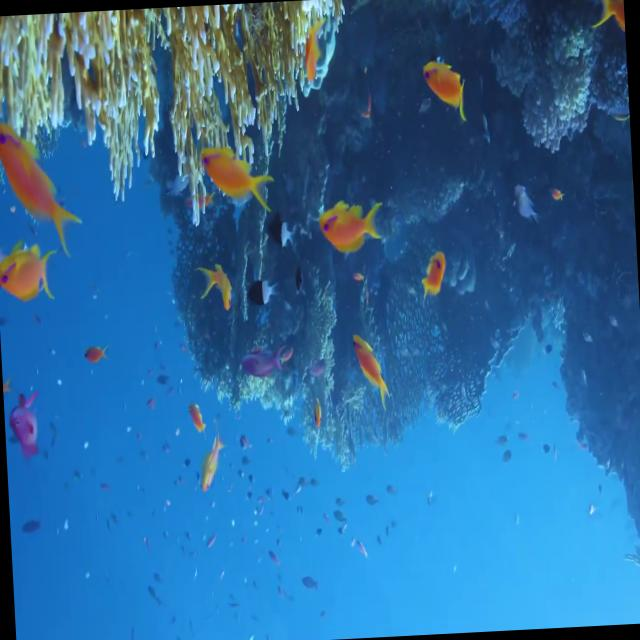fish: (0, 116, 78, 242), (202, 141, 270, 205), (352, 330, 392, 418), (0, 242, 54, 306), (318, 200, 377, 257), (422, 56, 466, 111), (203, 260, 236, 316), (417, 250, 447, 302), (244, 276, 278, 310), (268, 218, 300, 254)
